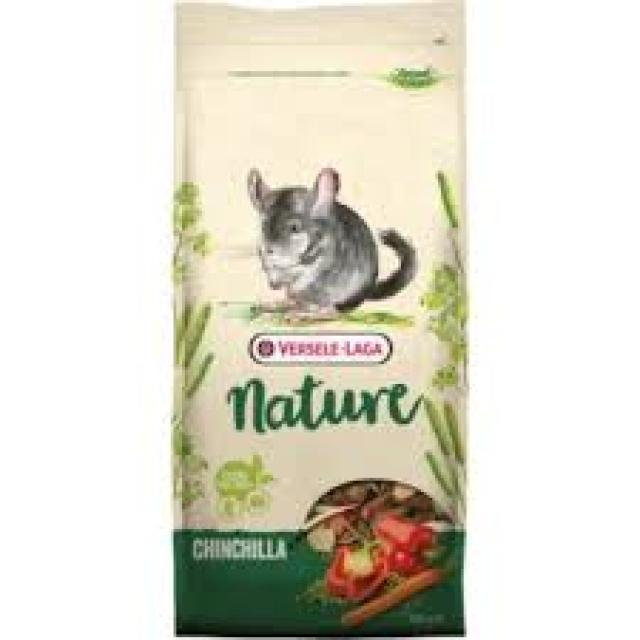rat: (245, 162, 415, 319)
